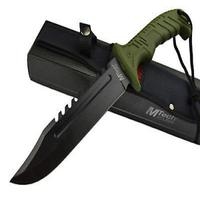knife: (7, 18, 178, 189)
